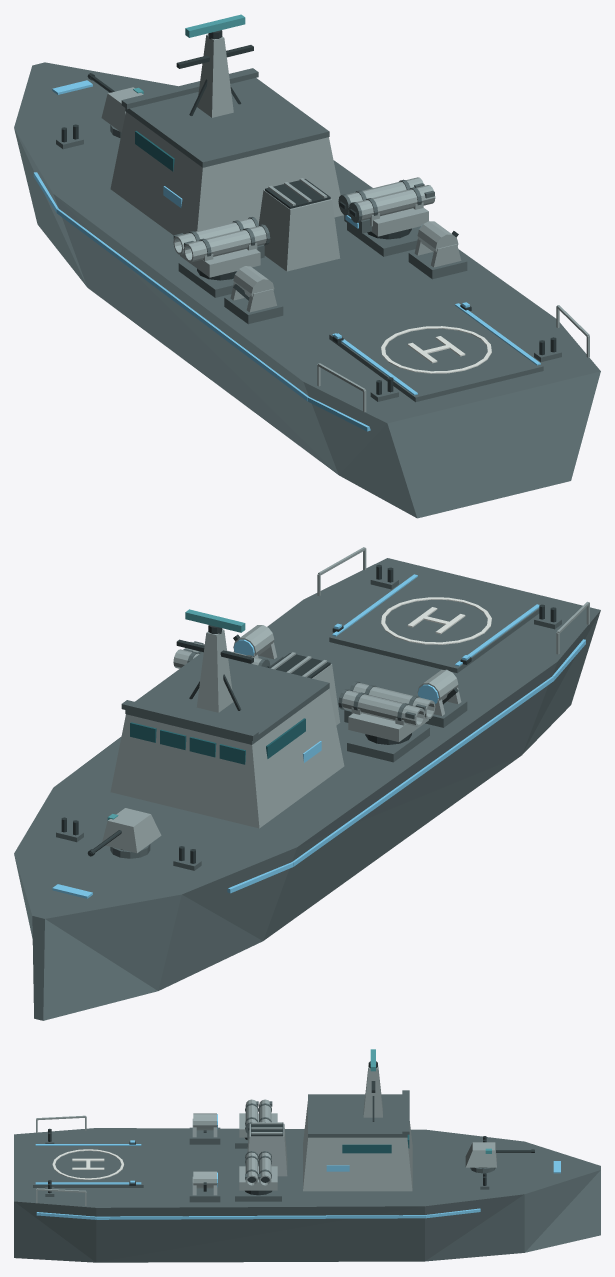
Rendered from ESC_ASW_T1.fbx.
3 renders of one model, top to bottom at view 1: azimuth 30°, elevation 25°; view 2: azimuth 150°, elevation 25°; view 3: azimuth 270°, elevation 25°, orthographic. The views are drawn at different scales.
Parts seen in each view (by area): view 1: ContinuousHull.004, Deckhouse.004, HelicopterDeck, Roof.004, FunnelEnclosure.004, NavMast, RoleHullStripe-1_1.004, TorpedoTube_P1, TorpedoTube_S2, TorpedoRotatingCradle, BridgeBrow.004, TorpedoRotatingCradle.001 (+12 smaller); view 2: ContinuousHull.004, Deckhouse.004, HelicopterDeck, Roof.004, NavMast, PrimaryGunCupola.004, RoleHullStripe-1_1.004, BridgeBrow.004, TorpedoTube_P2, TorpedoDeckFoundation_P, TorpedoRotatingCradle, LandingCircle (+5 smaller); view 3: ContinuousHull.004, Deckhouse.004, HelicopterDeck, Roof.004, RoleHullStripe1_1.004, FunnelEnclosure.004, NavMast, PrimaryGunCupola.004, TorpedoDeckFoundation_S, TorpedoRotatingCradle.001, BridgeSideGlass1.004, DepthChargeFoot (+8 smaller).
Part boxes in pixels (x1,y1,x2,y2): ContinuousHull.004: (14,62,600,518); Deckhouse.004: (110,112,343,235); HelicopterDeck: (329,304,543,402); Roof.004: (125,78,329,167); FunnelEnclosure.004: (259,190,340,271); NavMast: (197,34,233,117); RoleHullStripe-1_1.004: (56,208,308,400); TorpedoTube_P1: (184,226,266,262); TorpedoTube_S2: (357,185,435,220); TorpedoRotatingCradle: (180,249,260,277); BridgeBrow.004: (121,68,258,109); TorpedoRotatingCradle.001: (371,208,428,236); ContinuousHull.004: (14,558,600,1020); Deckhouse.004: (110,689,344,828); HelicopterDeck: (329,574,539,673); Roof.004: (125,652,329,744); NavMast: (196,629,233,712); PrimaryGunCupola.004: (102,808,161,853); RoleHullStripe-1_1.004: (292,676,553,866); BridgeBrow.004: (121,700,258,740); TorpedoTube_P2: (342,690,424,726); TorpedoDeckFoundation_P: (347,725,429,762); TorpedoRotatingCradle: (348,713,428,741); LandingCircle: (381,597,491,644); ContinuousHull.004: (14,1128,600,1262); Deckhouse.004: (303,1101,412,1191); HelicopterDeck: (33,1145,143,1187); Roof.004: (308,1094,407,1137); RoleHullStripe1_1.004: (96,1215,424,1219); FunnelEnclosure.004: (247,1123,287,1176); NavMast: (363,1065,382,1117); PrimaryGunCupola.004: (465,1142,496,1167); TorpedoDeckFoundation_S: (235,1181,281,1201); TorpedoRotatingCradle.001: (239,1166,277,1190); BridgeSideGlass1.004: (342,1144,391,1153); DepthChargeFoot: (189,1127,220,1144).
Size of the model in its own units: 290 by 297 by 900.
